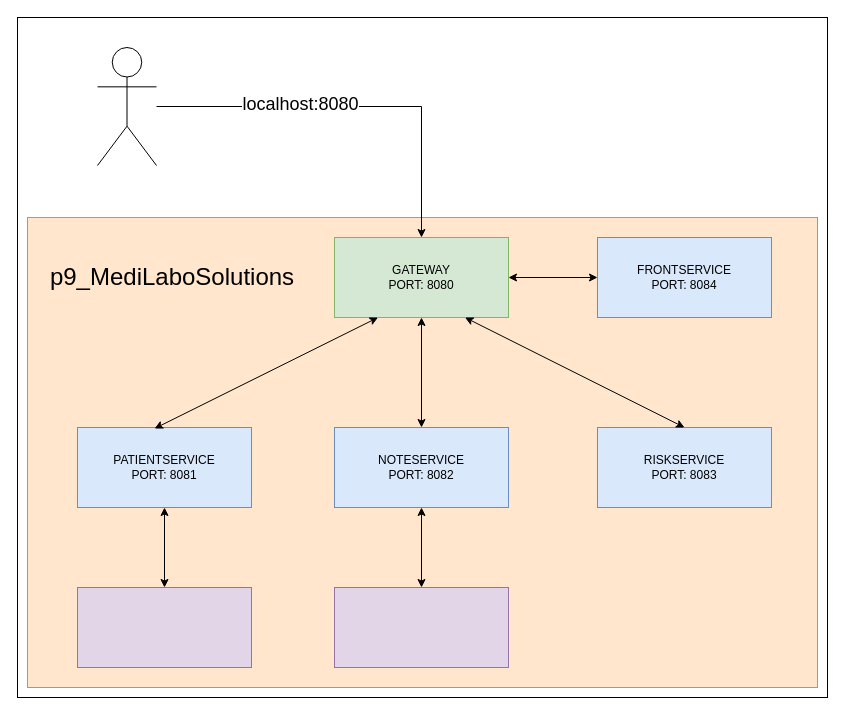
The diagram is 845 pixels wide and 715 high, and some of its shapes have lost their labels. The shapes that lost their labels are listed below. From the top down, each one's centre as x and y in pixels, then its label:
At (x=126, y=106): "USER".
At (x=164, y=627): "DB_MYSQL_PATIENT PORT: 3306".
At (x=421, y=627): "DB_MONGO_NOTE PORT: 27017".
